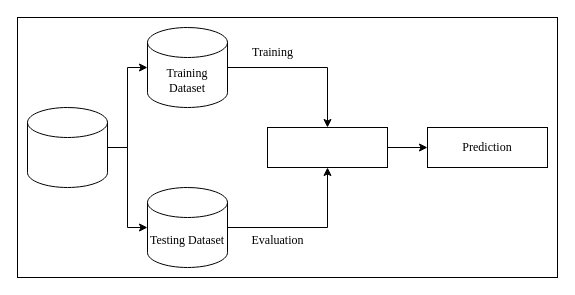
This 575x295 diagram has some shape labels left out. Here are the shapes that lost their labels. From the top down, the centre of each, then its label:
At (67,147): "Dataset".
At (327,147): "Ensemble Model".
